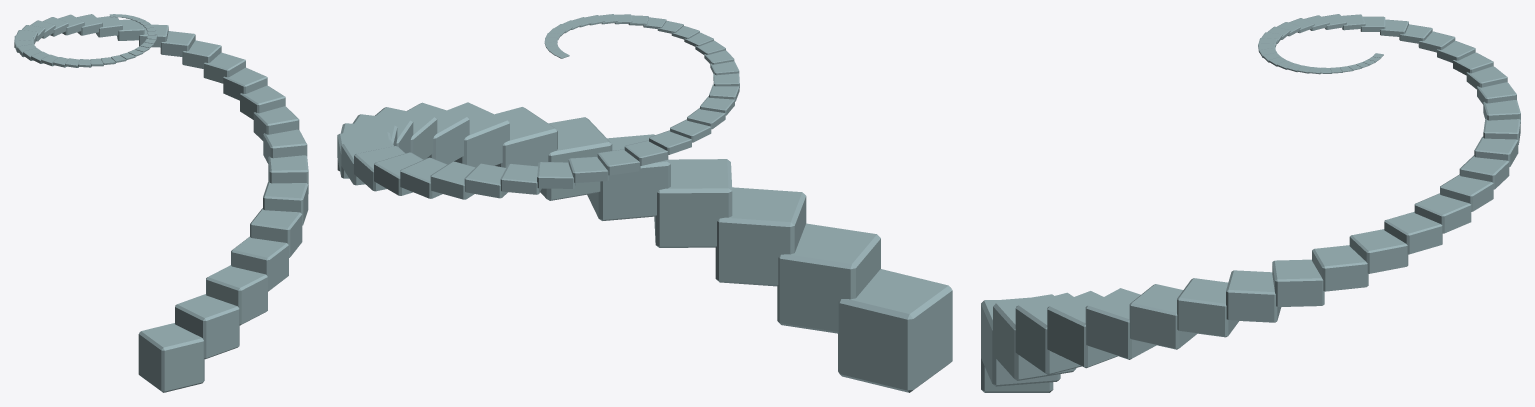
The model's file is par4.glb.
3 renders of one model, left to right at view 1: azimuth 30°, elevation 25°; view 2: azimuth 150°, elevation 25°; view 3: azimuth 270°, elevation 25°, orthographic. The views are drawn at different scales.
Visible parts, largest first — view 1: Cube.001; view 2: Cube.001; view 3: Cube.001.
Boxes of the visible parts, <box> form: Cube.001: <box>14,14,308,392</box>; Cube.001: <box>337,14,952,392</box>; Cube.001: <box>981,14,1520,392</box>.
Size of the model in its own units: 10.43 by 11.32 by 14.94.
